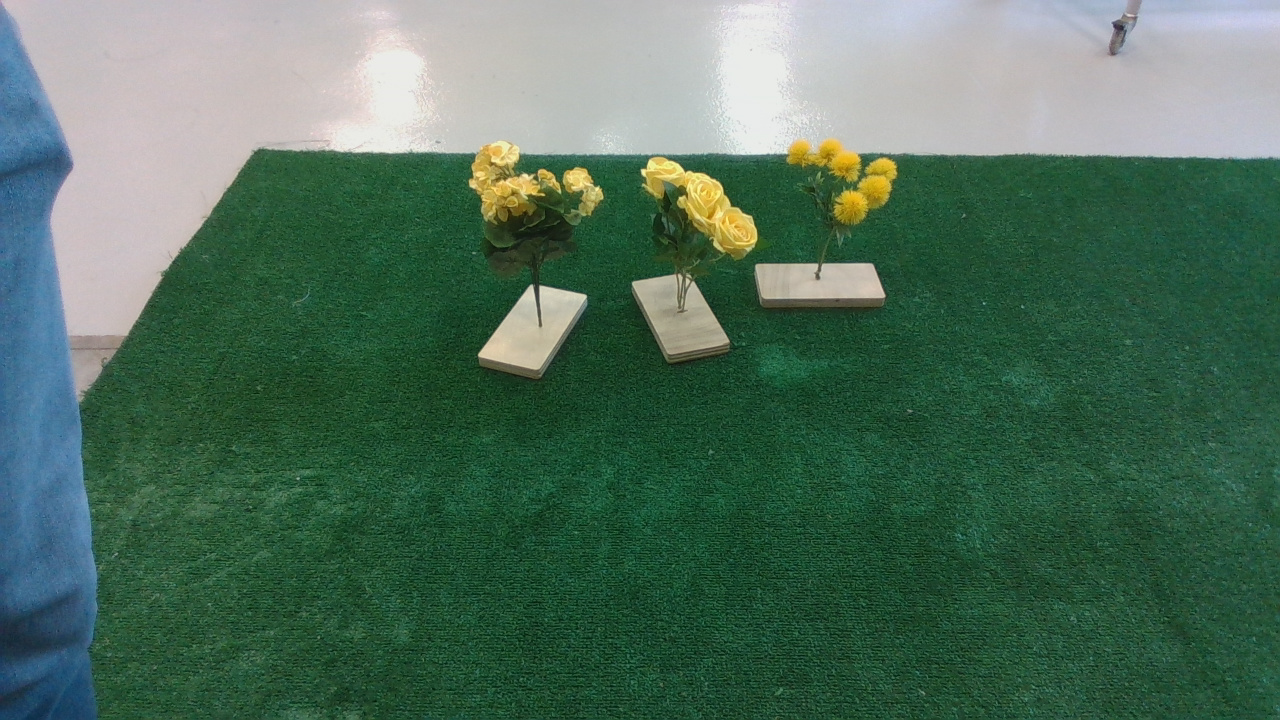dandelion: (784, 135, 909, 248)
geranium: (469, 139, 612, 286)
rose: (632, 146, 763, 297)
